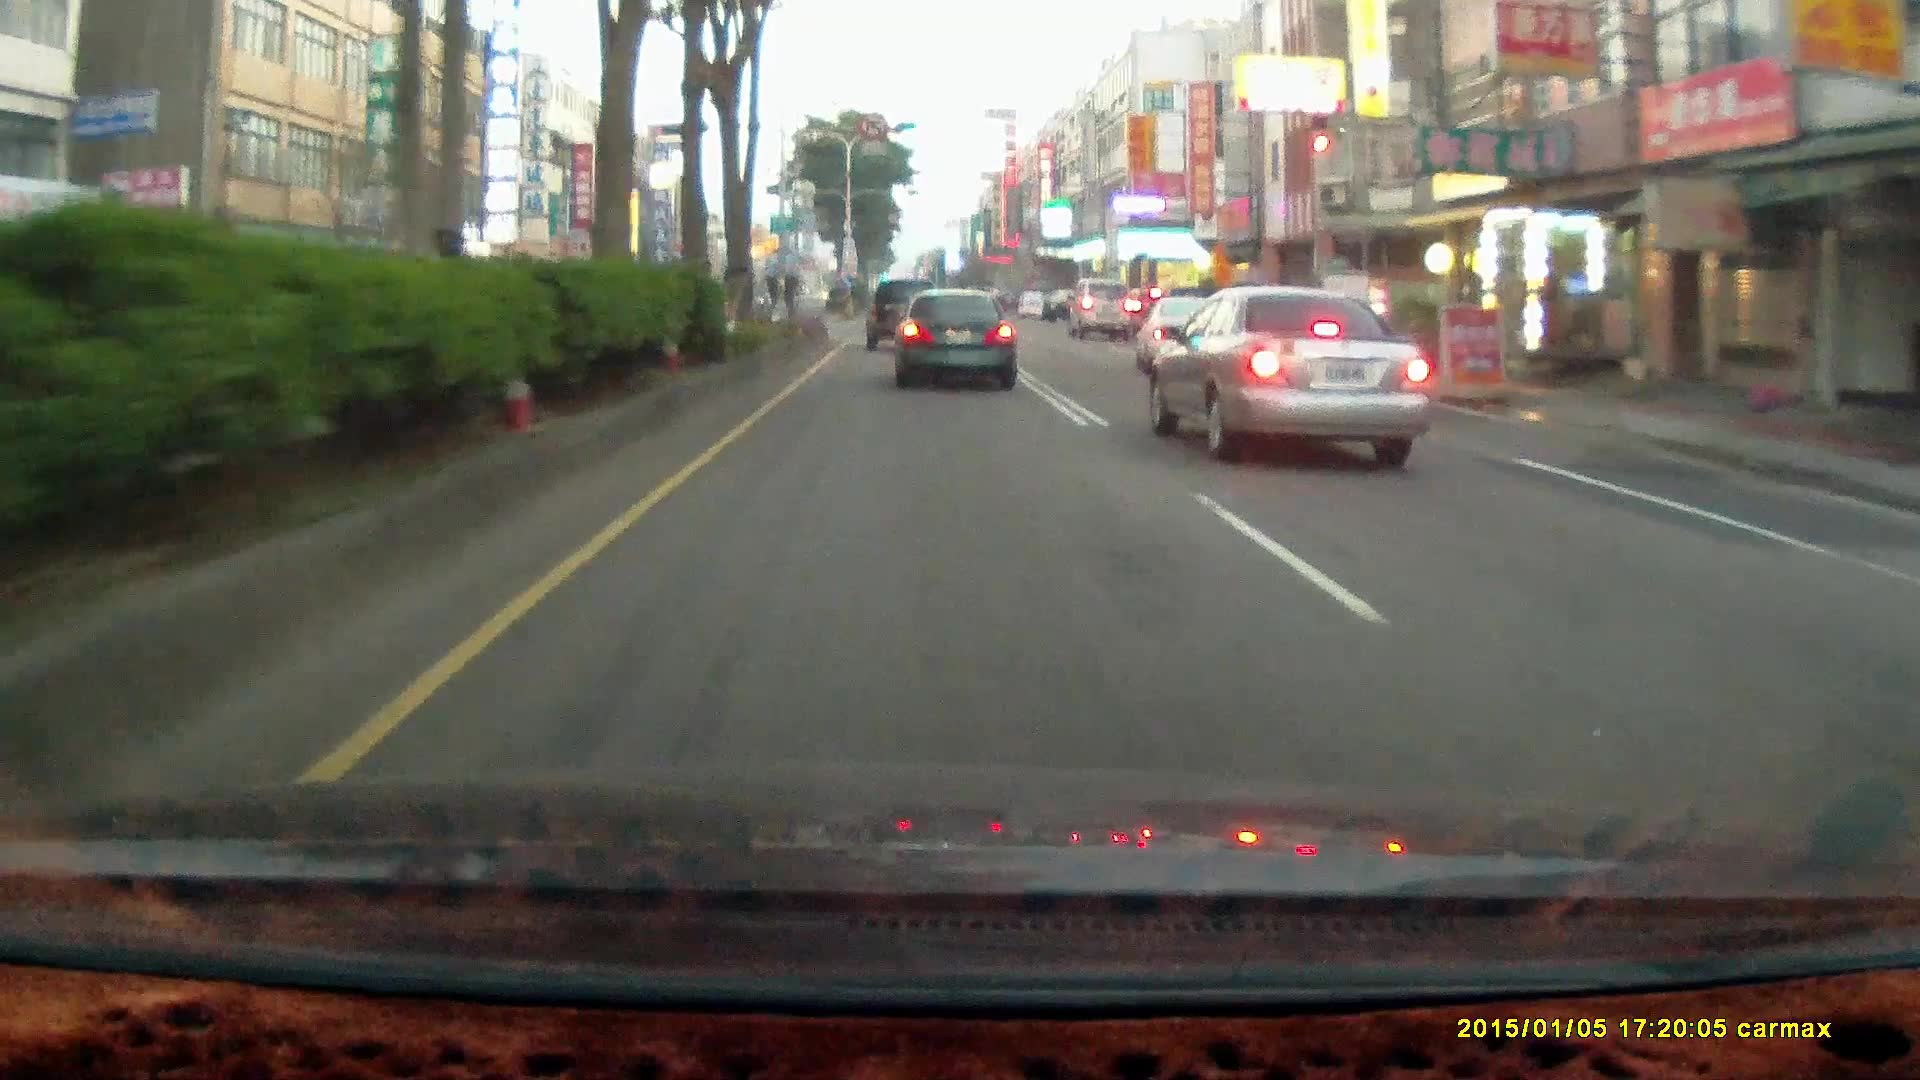vehicle: (1153, 286, 1433, 460), (891, 287, 1021, 397), (893, 287, 1015, 392), (864, 278, 944, 355), (864, 280, 942, 353), (1065, 276, 1135, 339), (1068, 280, 1138, 343), (1042, 287, 1091, 324), (1021, 291, 1044, 318)
